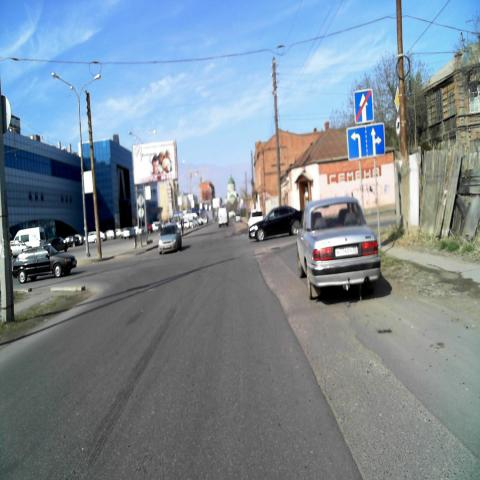5_6: (354, 89, 374, 124)
